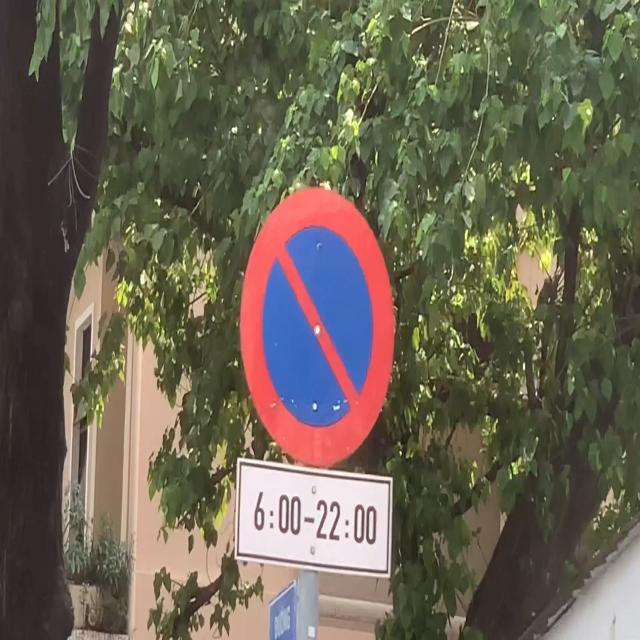Cam do: (239, 186, 396, 470)
